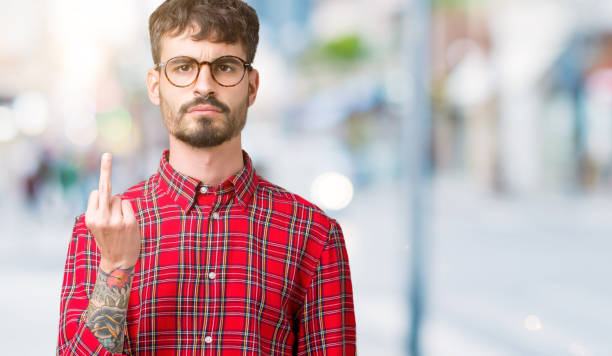insulting_gesture: (83, 151, 143, 262)
